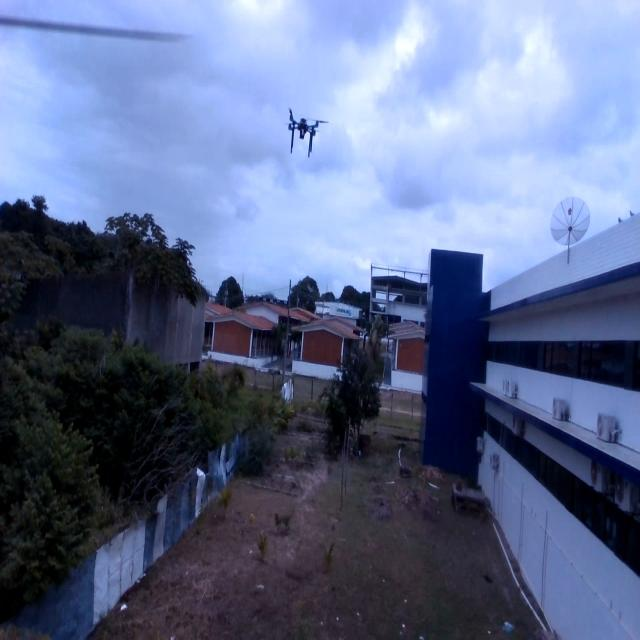-uav-: (275, 88, 339, 186)
